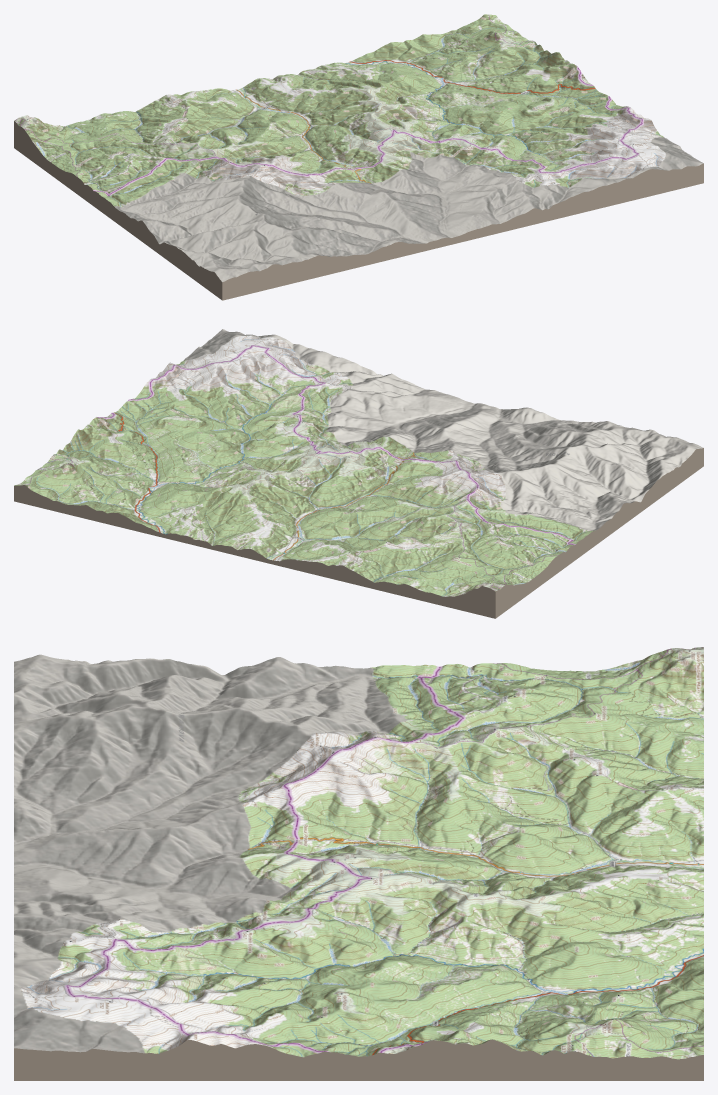
The picture shows the model from 3 angles, top to bottom: view 1: azimuth 30°, elevation 25°; view 2: azimuth 150°, elevation 25°; view 3: azimuth 270°, elevation 25°; orthographic projection. The views are drawn at different scales.
Visible parts, largest first — view 1: BV50-F5 Babarunca; view 2: BV50-F5 Babarunca; view 3: BV50-F5 Babarunca.
Boxes of the visible parts, x1=… form: BV50-F5 Babarunca: x1=14, y1=14, x2=703, y2=300; BV50-F5 Babarunca: x1=14, y1=329, x2=703, y2=618; BV50-F5 Babarunca: x1=14, y1=647, x2=703, y2=1080.
Bounding box in the file's own units: 20000 × 1264 × 15000.
Materials: 4 (1 with a texture image).
